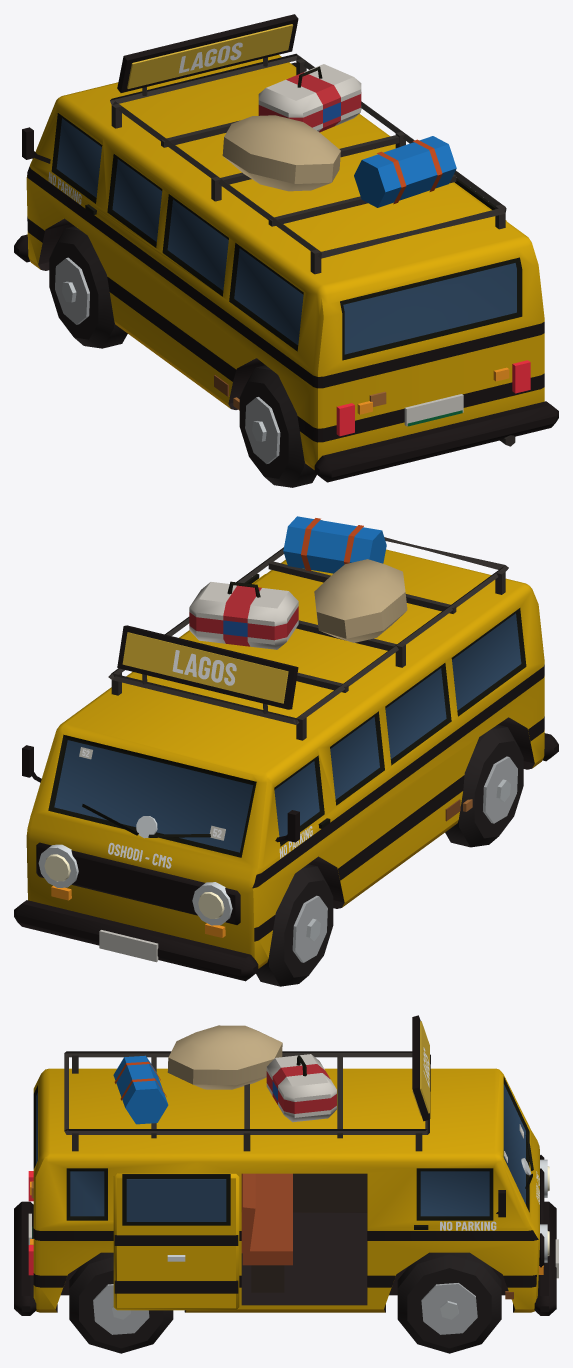
File: danfo.glb
3 views of the same model, one above another, from view 1: azimuth 30°, elevation 25°; view 2: azimuth 150°, elevation 25°; view 3: azimuth 270°, elevation 25° (orthographic). The views are drawn at different scales.
Parts seen in each view (by area): view 1: danfo_body, wheel_FL, wheel_RL, danfo_decals; view 2: danfo_body, wheel_RL, wheel_FL, danfo_decals; view 3: danfo_body, wheel_FR, wheel_RR, danfo_decals.
Part boxes in pixels (x1=…): danfo_body: x1=14, y1=14, x2=558, y2=482; wheel_FL: x1=49, y1=226, x2=127, y2=348; wheel_RL: x1=239, y1=365, x2=316, y2=487; danfo_decals: x1=48, y1=42, x2=242, y2=204; danfo_body: x1=14, y1=516, x2=558, y2=981; wheel_RL: x1=445, y1=724, x2=523, y2=847; wheel_FL: x1=256, y1=864, x2=333, y2=986; danfo_decals: x1=82, y1=650, x2=312, y2=868; danfo_body: x1=14, y1=1015, x2=558, y2=1315; wheel_FR: x1=397, y1=1252, x2=501, y2=1353; wheel_RR: x1=69, y1=1252, x2=173, y2=1353; danfo_decals: x1=423, y1=1047, x2=539, y2=1230.
Size of the model in its own units: 2.49 by 2.64 by 4.98.
3 materials, 1 textured.
